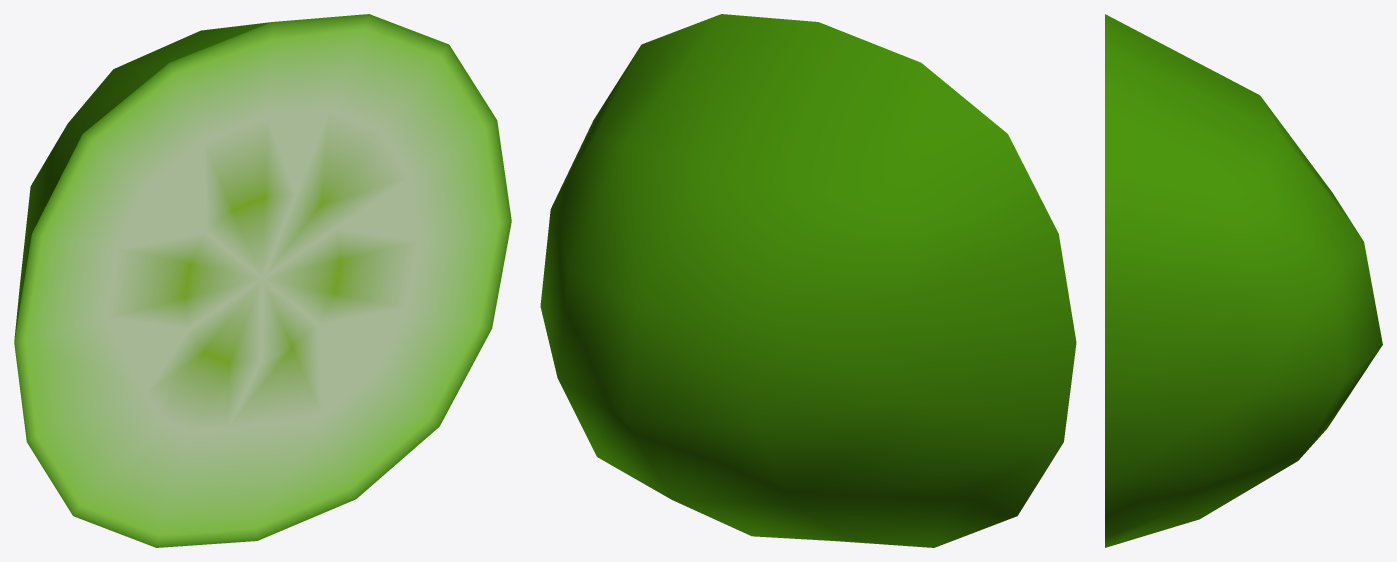
Rendered from Cucumber_Slice_21.fbx.
The picture shows the model from 3 angles, left to right: view 1: azimuth 30°, elevation 25°; view 2: azimuth 150°, elevation 25°; view 3: azimuth 270°, elevation 25°; orthographic projection. The views are drawn at different scales.
Visible parts, largest first — view 1: Cucumber_Slice_21; view 2: Cucumber_Slice_21; view 3: Cucumber_Slice_21.
Part boxes in pixels (x1=…): Cucumber_Slice_21: x1=14, y1=14, x2=511, y2=547; Cucumber_Slice_21: x1=540, y1=14, x2=1076, y2=547; Cucumber_Slice_21: x1=1105, y1=14, x2=1382, y2=547.
Size of the model in its own units: 3.47 by 3.43 by 1.8.
